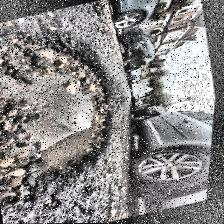pothole: (0, 0, 138, 204)
